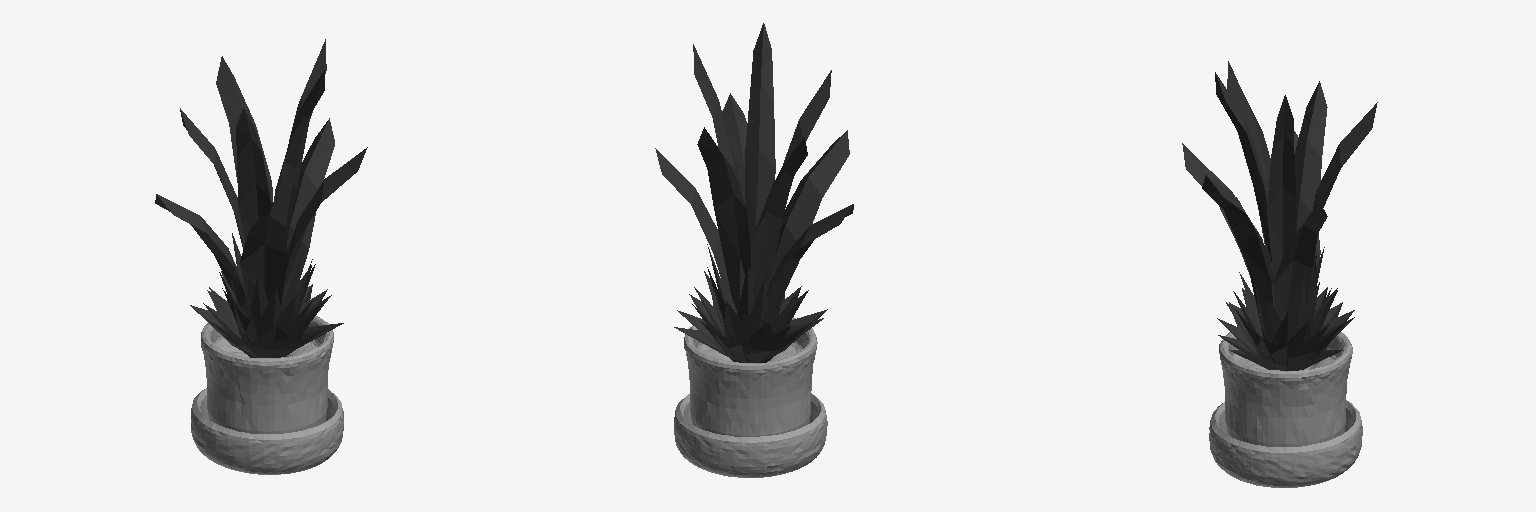
Rendered from Plant.obj.
The picture shows the model from 3 angles: view 1: azimuth 30°, elevation 25°; view 2: azimuth 150°, elevation 25°; view 3: azimuth 270°, elevation 25°; orthographic projection.
Visible parts, largest first — view 1: Low-Poly_Plant_.001_Cube.000, Low-Poly_Plant__Cube.055; view 2: Low-Poly_Plant_.001_Cube.000, Low-Poly_Plant__Cube.055; view 3: Low-Poly_Plant_.001_Cube.000, Low-Poly_Plant__Cube.055.
Boxes of the visible parts, x1=… form: Low-Poly_Plant_.001_Cube.000: x1=155, y1=39, x2=367, y2=357; Low-Poly_Plant__Cube.055: x1=191, y1=316, x2=343, y2=474; Low-Poly_Plant_.001_Cube.000: x1=655, y1=23, x2=853, y2=362; Low-Poly_Plant__Cube.055: x1=674, y1=317, x2=827, y2=477; Low-Poly_Plant_.001_Cube.000: x1=1182, y1=61, x2=1377, y2=370; Low-Poly_Plant__Cube.055: x1=1209, y1=332, x2=1362, y2=487.
Bounding box in the file's own units: 0.6533 × 1.35 × 0.5929.